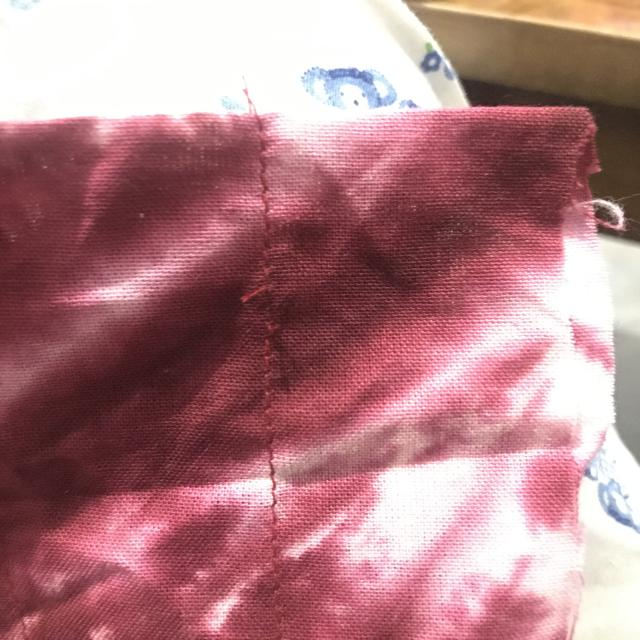broken: (235, 272, 296, 350)
good: (249, 421, 292, 547)
